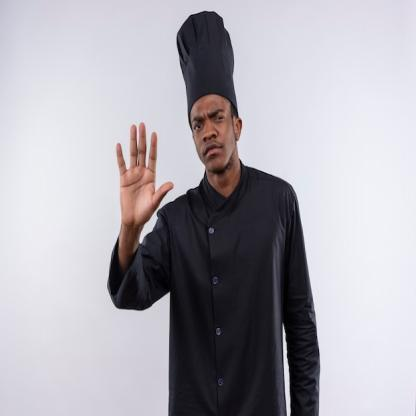stop: (114, 121, 176, 230)
